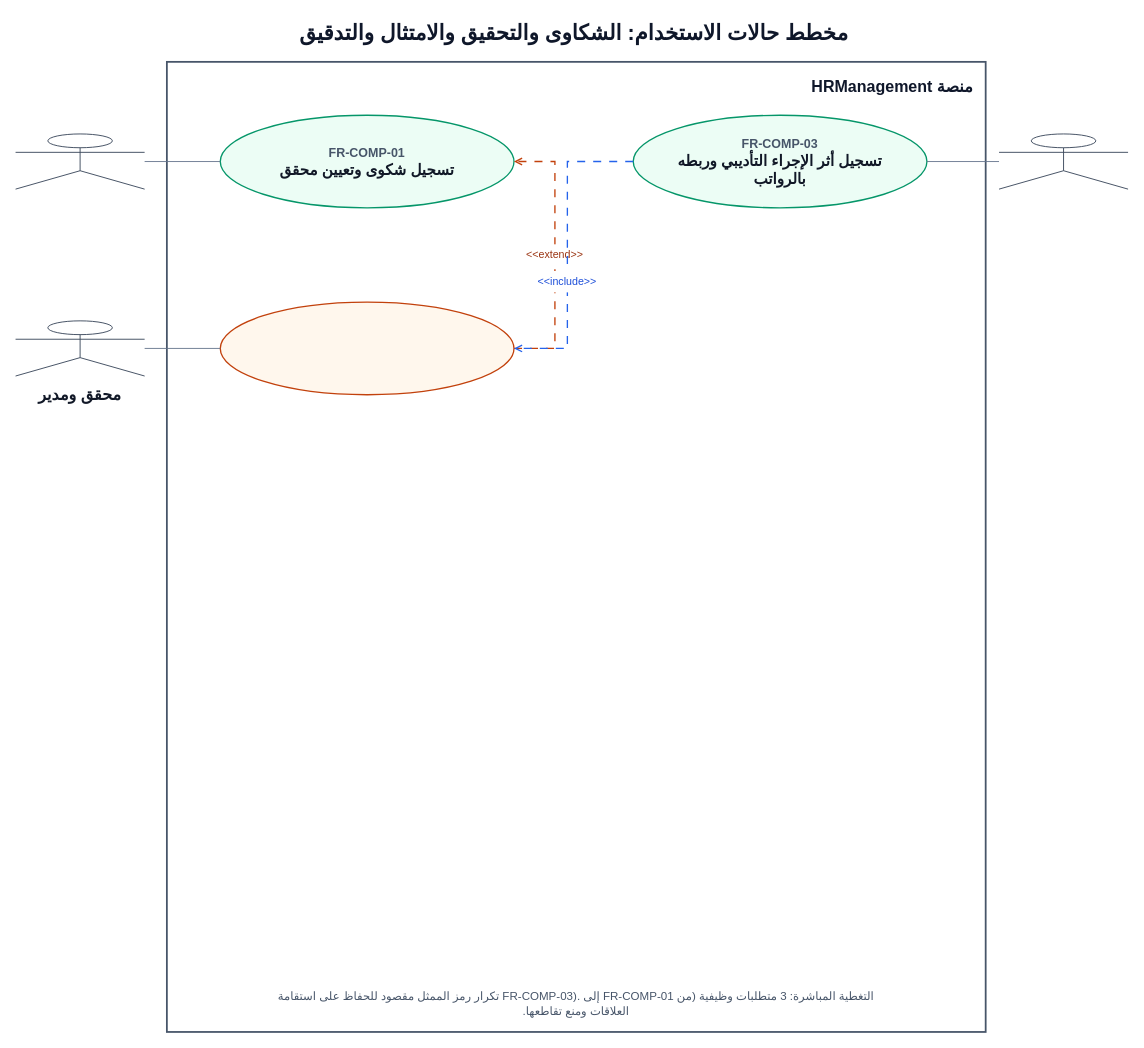
Image size: 1144x1048. Some labels were removed from this diagram. Each missing label, with the centre of its shape:
"FR-COMP-02 التحقيق وإصدار القرار والاستئناف" goes at (366,348).
"خدمات النظام" goes at (1063,161).
"موظف الشكاوى" goes at (80,161).
